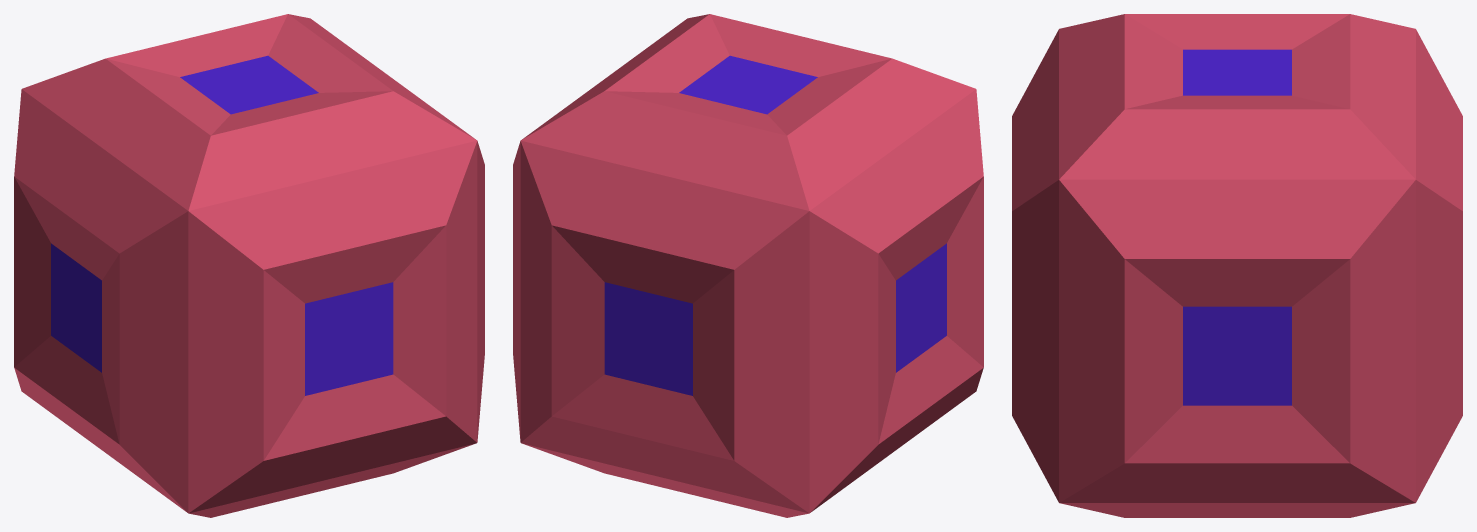
The model's file is sciBox.fbx.
3 views of the same model, side by side, from view 1: azimuth 30°, elevation 25°; view 2: azimuth 150°, elevation 25°; view 3: azimuth 270°, elevation 25° (orthographic). The views are drawn at different scales.
Visible parts, largest first — view 1: Cube; view 2: Cube; view 3: Cube.
Boxes of the visible parts, x1,y1,x2,y2 form: Cube: [14, 14, 484, 517]; Cube: [513, 14, 983, 517]; Cube: [1012, 14, 1462, 517].
Size of the model in its own units: 253 by 253 by 253.
